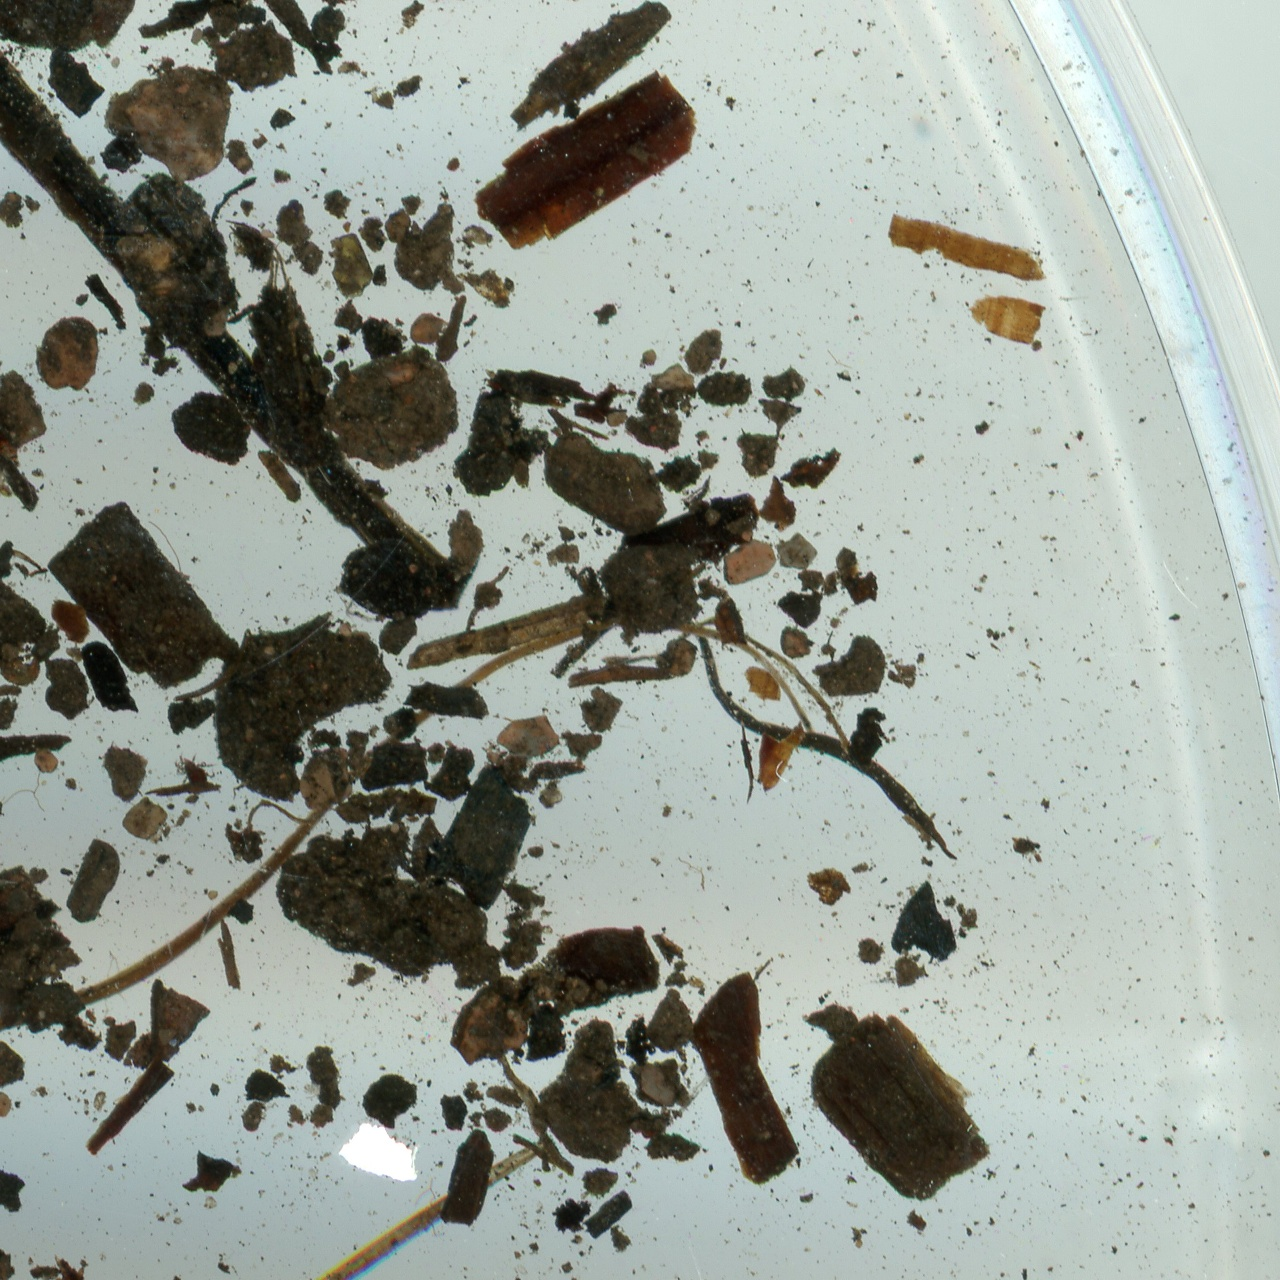arthropod: (169, 748, 218, 797)
